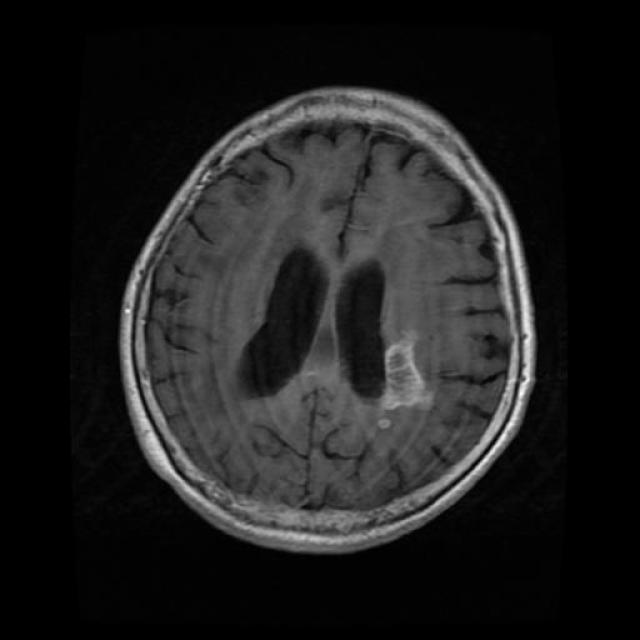glioma: (238, 244, 424, 412)
